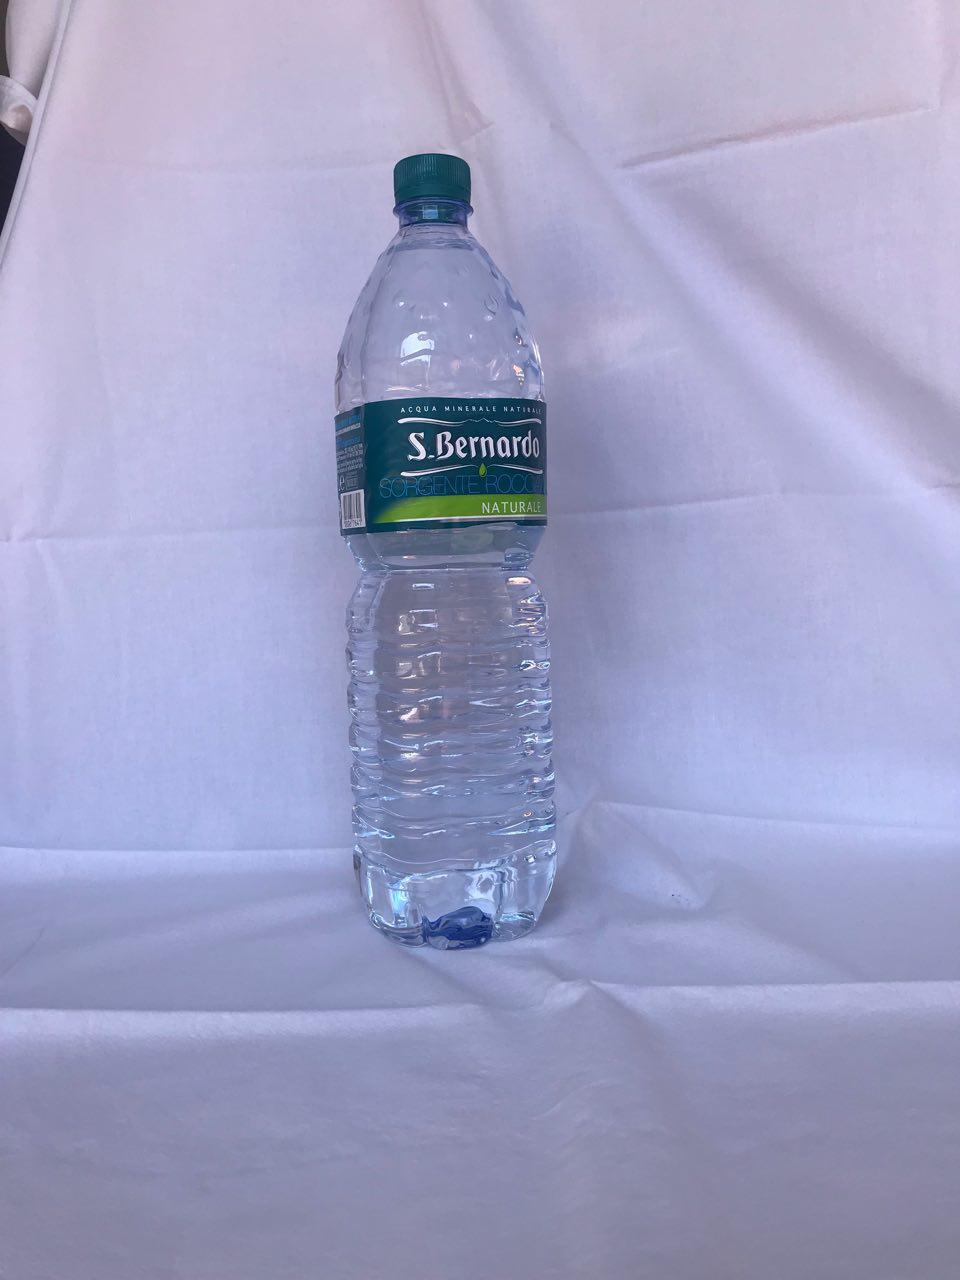san_bernardo: (331, 151, 558, 949)
